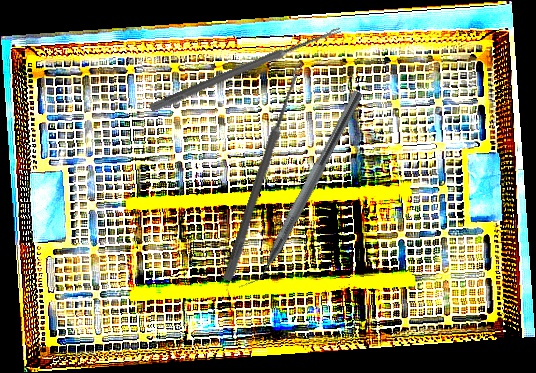Chopper: (236, 82, 364, 299)
Surgical Spoon: (222, 60, 305, 283), (149, 24, 342, 114)
